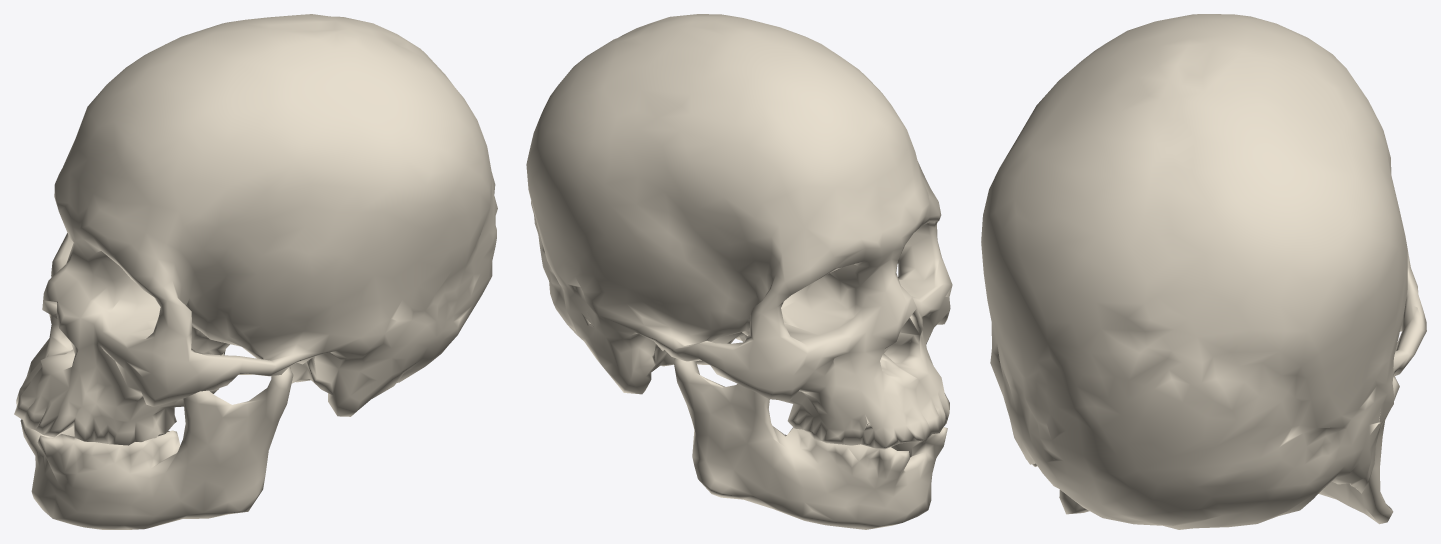
The model's file is mhs.glb.
The picture shows the model from 3 angles, left to right: view 1: azimuth 30°, elevation 25°; view 2: azimuth 150°, elevation 25°; view 3: azimuth 270°, elevation 25°; orthographic projection. The views are drawn at different scales.
Bounding box in the file's own units: 0.1919 × 0.191 × 0.1399.
